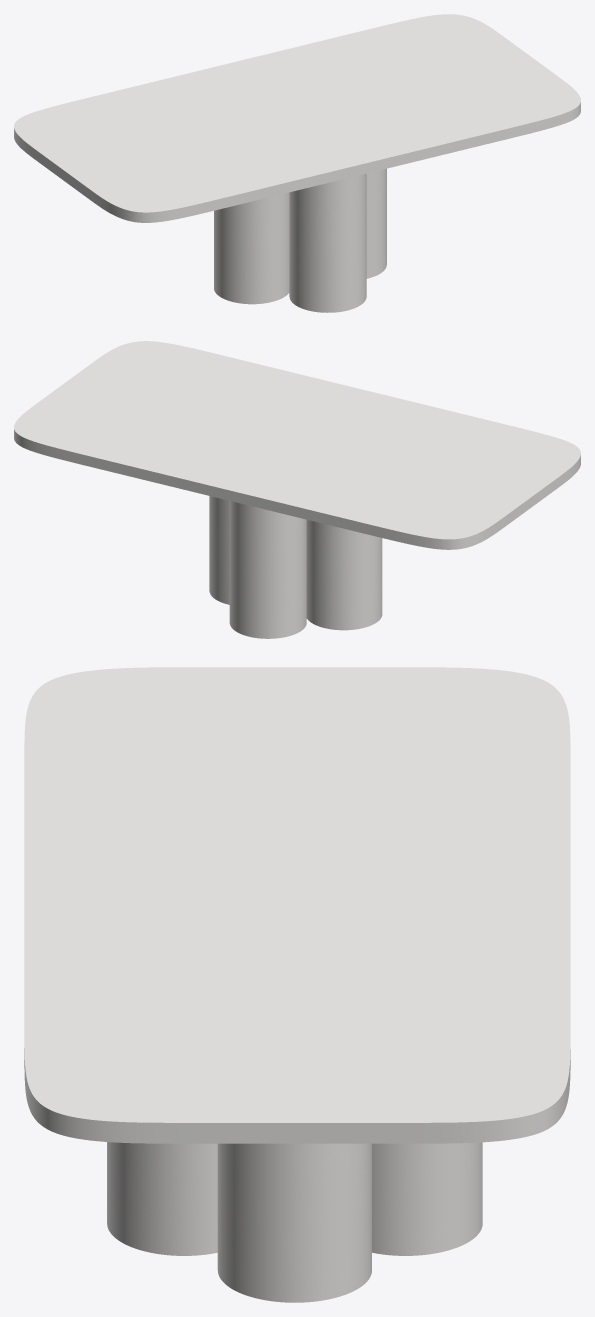
The model's file is purewhite_softrecta_standard_secondtable.glb.
The picture shows the model from 3 angles, top to bottom: view 1: azimuth 30°, elevation 25°; view 2: azimuth 150°, elevation 25°; view 3: azimuth 270°, elevation 25°; orthographic projection. The views are drawn at different scales.
Parts seen in each view (by area): view 1: standard_softrecta, secondtable; view 2: standard_softrecta, secondtable; view 3: standard_softrecta, secondtable.
Part boxes in pixels (<box>): standard_softrecta: <box>14,14,580,222</box>; secondtable: <box>214,168,386,312</box>; standard_softrecta: <box>14,341,580,549</box>; secondtable: <box>209,496,382,638</box>; standard_softrecta: <box>24,667,570,1143</box>; secondtable: <box>107,1142,482,1302</box>.
Bounding box in the file's own units: 7.5 × 2.5 × 3.8.
Materials: 1 (1 with a texture image).
